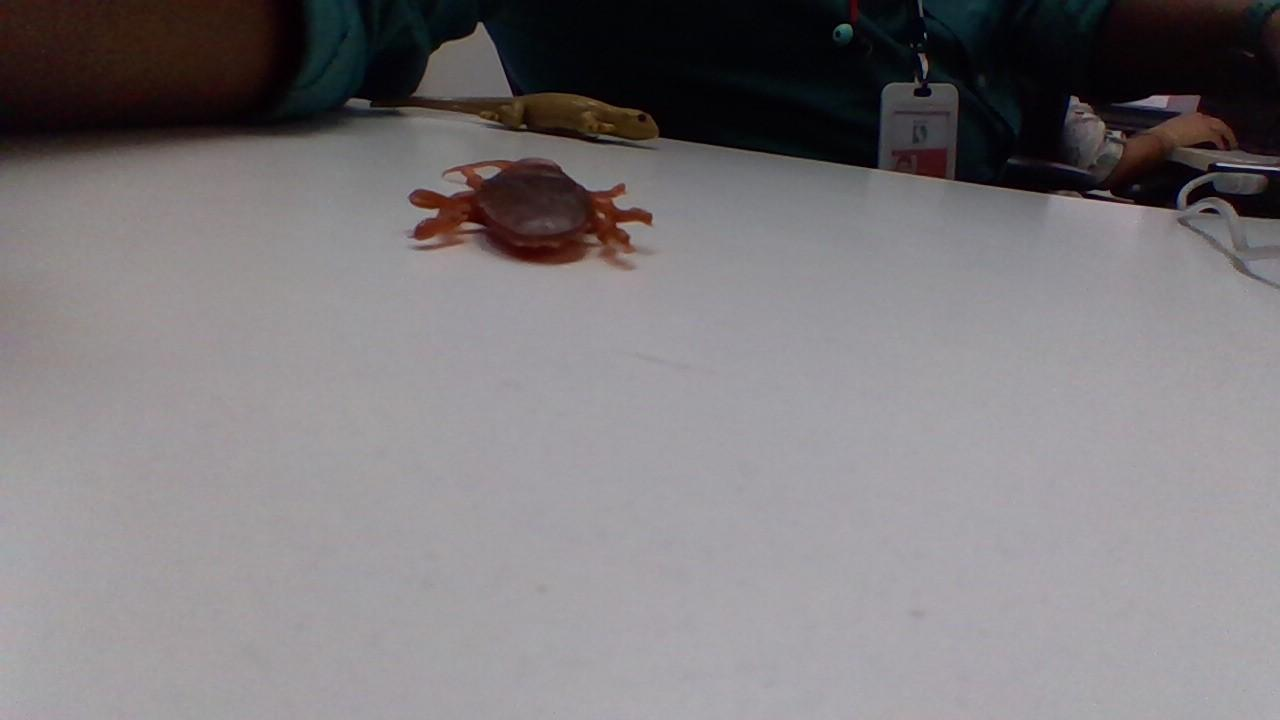cockroach: (410, 145, 654, 262)
